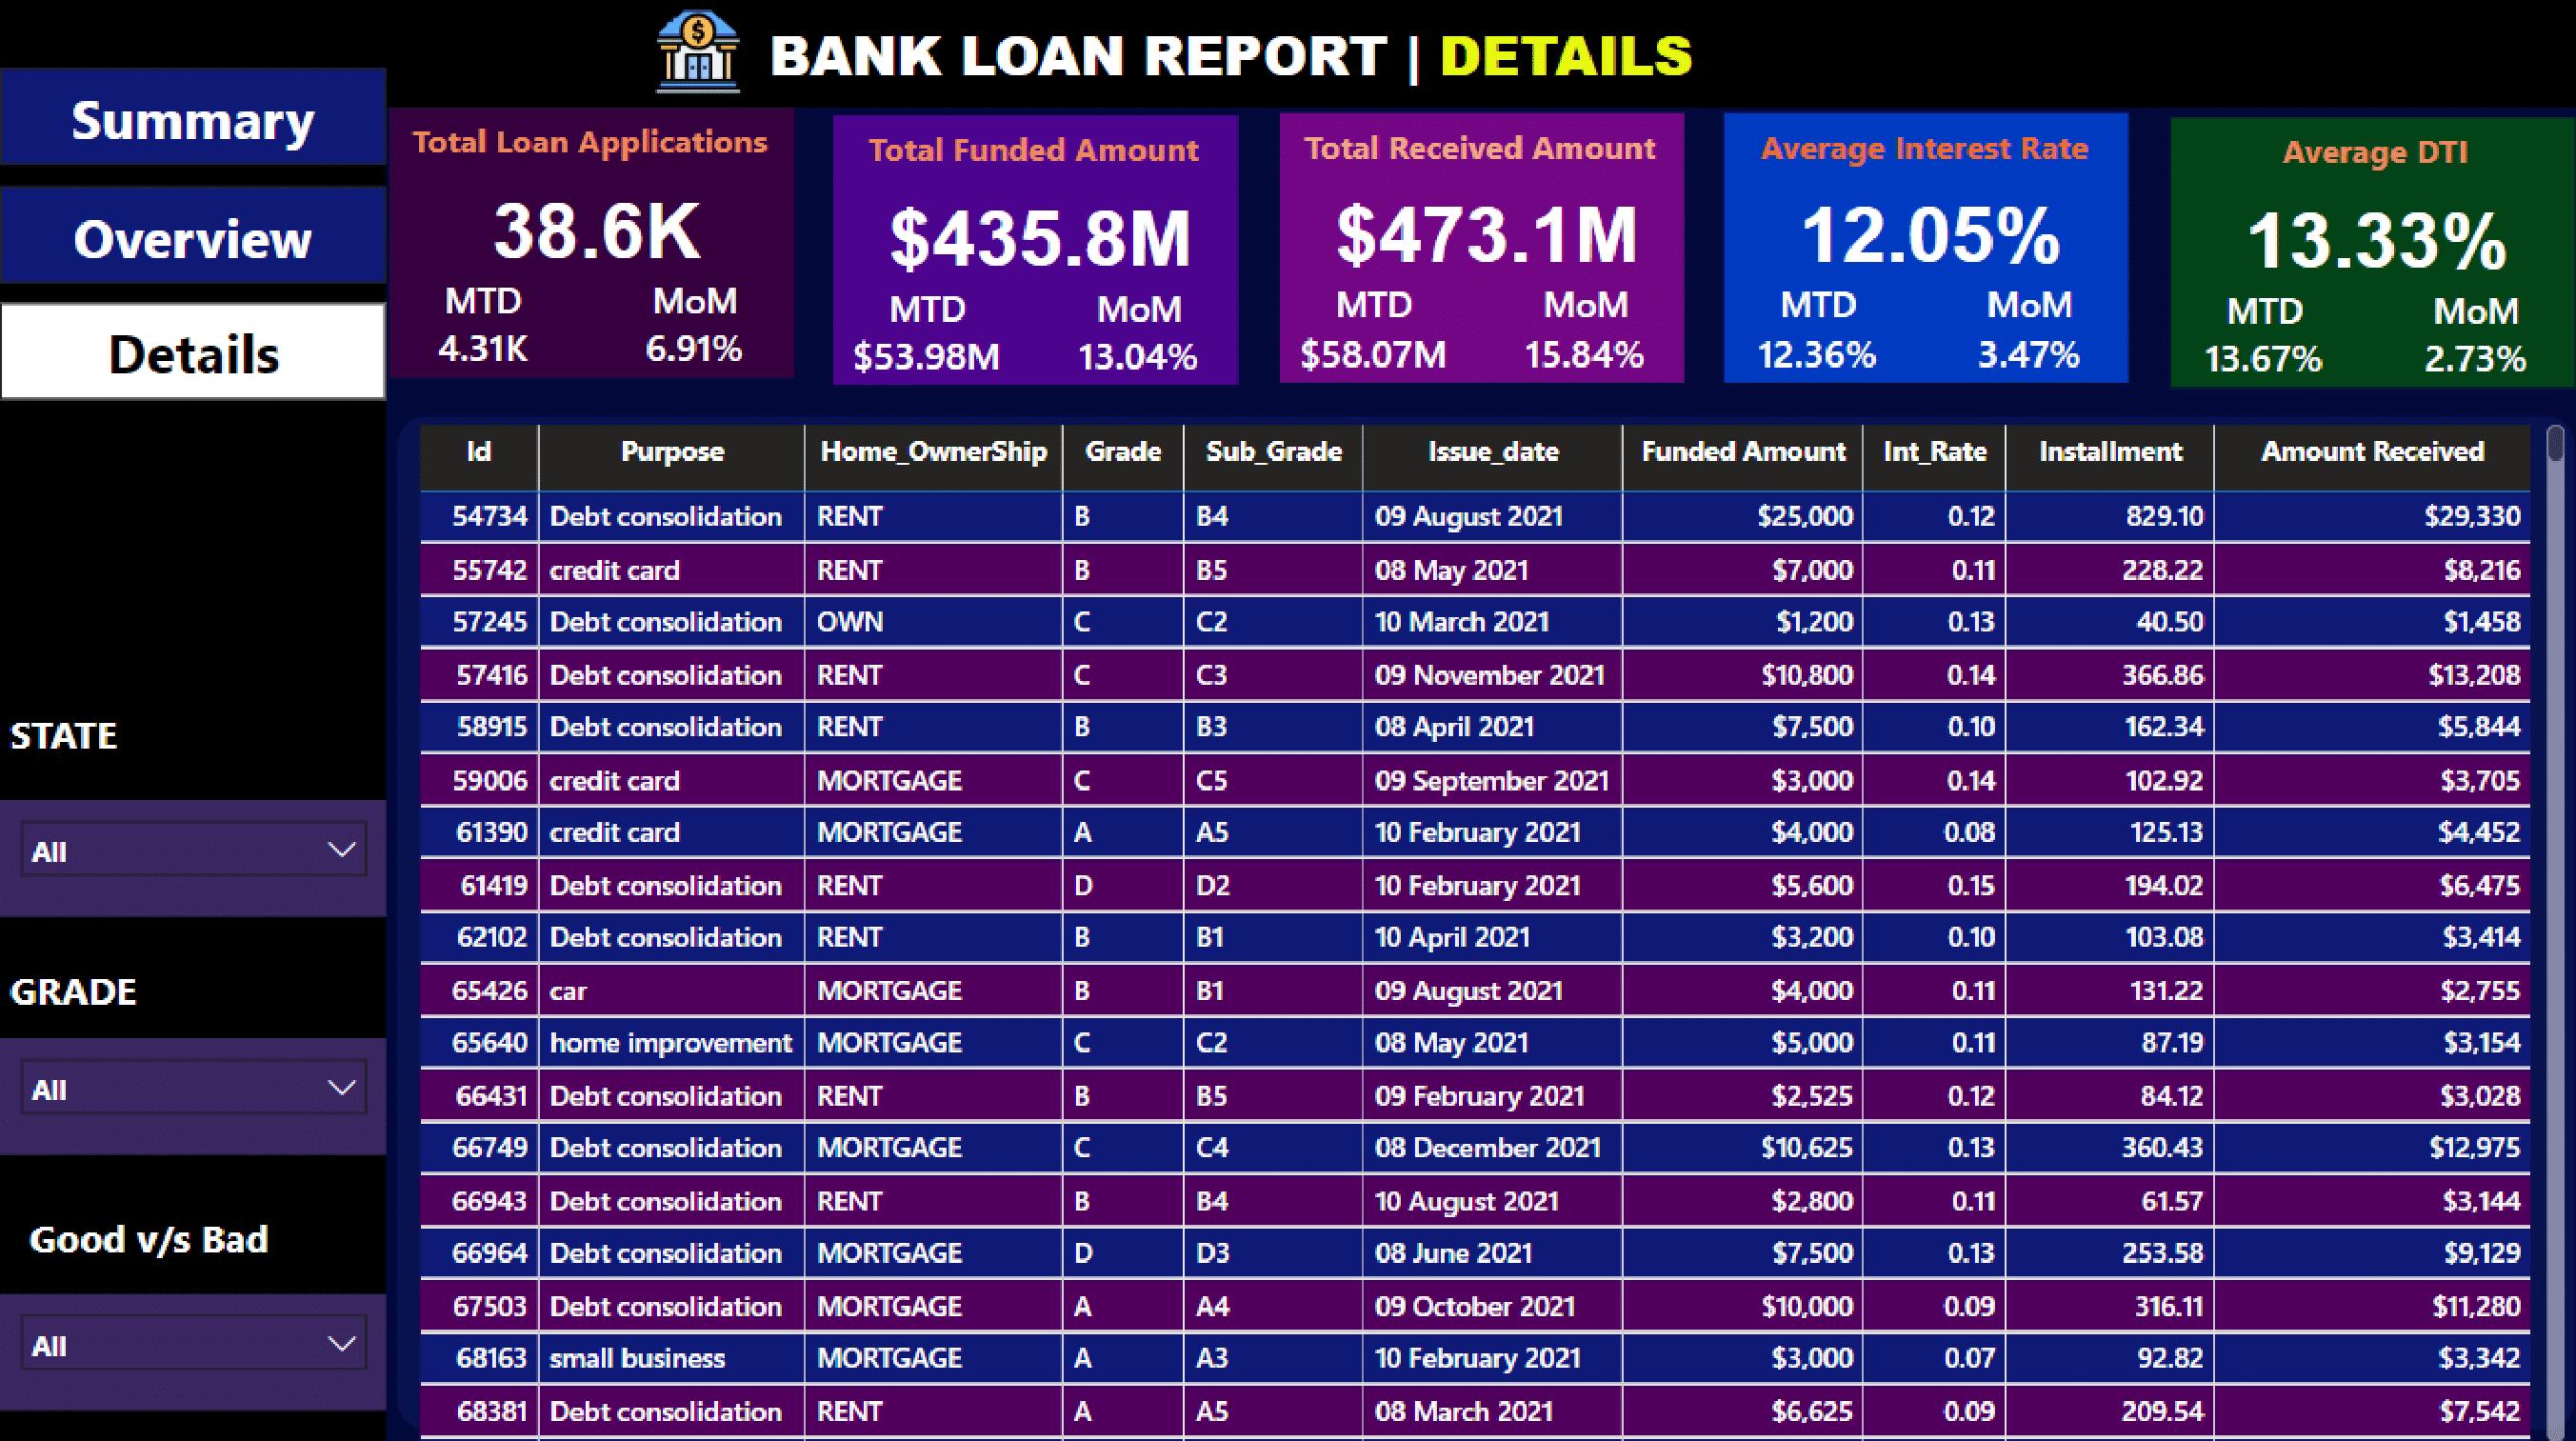

Layout of this report page (visuals, bound fields, positions):
{"tool":"powerbi","page":{"name":"Details","canvas":[1280,720],"ordinal":2},"visuals":[{"type":"shape","box":[192.2,55,200.2,133.8],"z":0,"group":"g1"},{"type":"shape","box":[0,55.2,191.4,665],"z":0},{"type":"shape","box":[632.8,57.7,200.2,133.8],"z":0,"group":"g4"},{"type":"shape","box":[853.1,57.7,200.2,133.8],"z":0,"group":"g3"},{"type":"shape","box":[412.4,59,200.2,133.8],"z":0,"group":"g2"},{"type":"shape","box":[1073.4,60.3,200.2,133.8],"z":0,"group":"g5"},{"type":"shape","box":[0,0,1280.3,55],"z":1000},{"type":"card","fields":{"Values":["Bank_Loan_Data.Total Loan Applications"]},"box":[198.4,89.3,193.1,49.7],"z":1000,"group":"g1"},{"type":"card","fields":{"Values":["Bank_Loan_Data.Total Amount Received"]},"box":[639,92,193.1,49.7],"z":1000,"group":"g4"},{"type":"card","fields":{"Values":["Bank_Loan_Data.Avg Interest Rate"]},"box":[859.3,92,193.1,49.7],"z":1000,"group":"g3"},{"type":"card","fields":{"Values":["Bank_Loan_Data.Total Funded Amount"]},"box":[418.6,93.3,193.1,49.7],"z":1000,"group":"g2"},{"type":"card","fields":{"Values":["Bank_Loan_Data.Avg DTI"]},"box":[1079.6,94.6,193.1,49.7],"z":1000,"group":"g5"},{"type":"textbox","box":[191.2,55,200.2,56.8],"z":2000,"group":"g1"},{"type":"textbox","box":[631.8,57.7,200.2,56.8],"z":2000,"group":"g4"},{"type":"textbox","box":[852.1,57.7,200.2,56.8],"z":2000,"group":"g3"},{"type":"textbox","box":[411.4,59,200.2,56.8],"z":2000,"group":"g2"},{"type":"textbox","box":[1072.4,60.3,200.2,56.8],"z":2000,"group":"g5"},{"type":"shape","box":[196.3,207.4,1077.3,501.8],"z":2000},{"type":"textbox","box":[375.5,4.9,550.9,50.3],"z":3000},{"type":"card","title":"MTD","fields":{"Values":["Bank_Loan_Data.MTD Loan Applications"]},"box":[191.2,139,95,49.7],"z":3000,"group":"g1"},{"type":"card","title":"MTD","fields":{"Values":["Bank_Loan_Data.MTD Total Amount Received"]},"box":[631.8,141.7,95,49.7],"z":3000,"group":"g4"},{"type":"card","title":"MTD","fields":{"Values":["Bank_Loan_Data.MTD Avg Interest Rate"]},"box":[852.1,141.7,95,49.7],"z":3000,"group":"g3"},{"type":"card","title":"MTD","fields":{"Values":["Bank_Loan_Data.MTD Funded Amount"]},"box":[411.4,143,95,49.7],"z":3000,"group":"g2"},{"type":"card","title":"MTD","fields":{"Values":["Bank_Loan_Data.MTD Avg DTI"]},"box":[1072.4,144.3,95,49.7],"z":3000,"group":"g5"},{"type":"group","id":"g1","title":"Group 1","box":[191.2,55,201.2,133.8],"z":4000},{"type":"card","title":"MoM","fields":{"Values":["Bank_Loan_Data.MoM Loan Application"]},"box":[295.4,139,96,49.7],"z":4000,"group":"g1"},{"type":"card","title":"MoM","fields":{"Values":["Bank_Loan_Data.MoM Total Amount Received"]},"box":[736,141.7,96,49.7],"z":4000,"group":"g4"},{"type":"card","title":"MoM","fields":{"Values":["Bank_Loan_Data.MoM Avg Interest Rate"]},"box":[956.3,141.7,96,49.7],"z":4000,"group":"g3"},{"type":"card","title":"MoM","fields":{"Values":["Bank_Loan_Data.MoM Total Funded Amount"]},"box":[515.6,143,96,49.7],"z":4000,"group":"g2"},{"type":"card","title":"MoM","fields":{"Values":["Bank_Loan_Data.MoM Avg DTI"]},"box":[1176.6,144.3,96,49.7],"z":4000,"group":"g5"},{"type":"group","id":"g2","title":"Group 1","box":[411.4,59,201.4,133.4],"z":5000},{"type":"group","id":"g3","title":"Group 1","box":[852.1,57.7,201.4,133.4],"z":6000},{"type":"group","id":"g4","title":"Group 1","box":[631.8,57.7,201.4,133.4],"z":7000},{"type":"group","id":"g5","title":"Group 1","box":[1072.4,60.3,201.4,133.4],"z":8000},{"type":"slicer","fields":{"Values":["Bank_Loan_Data.address_state"]},"box":[0,397.5,191.4,57.7],"z":9000},{"type":"textbox","box":[0,347.5,191.2,40],"z":10000},{"type":"slicer","fields":{"Values":["Bank_Loan_Data.grade"]},"box":[0,515,191.2,57.5],"z":11000},{"type":"textbox","box":[0,473.8,191.2,45],"z":12000},{"type":"slicer","fields":{"Values":["Bank_Loan_Data.Goood v/s Bad Loan"]},"box":[0,641.7,191.4,57.7],"z":13000},{"type":"textbox","box":[9.8,596.3,181.6,45.4],"z":14000},{"type":"tableEx","fields":{"Values":["Bank_Loan_Data.id","Bank_Loan_Data.purpose","Bank_Loan_Data.home_ownership","Bank_Loan_Data.grade","Bank_Loan_Data.sub_grade","Bank_Loan_Data.issue_date","Bank_Loan_Data.Total Funded Amount","Sum(Bank_Loan_Data.int_rate)","Sum(Bank_Loan_Data.installment)","Bank_Loan_Data.Total Amount Received"]},"box":[201.2,207.4,1072.4,512.9],"z":17000},{"type":"pageNavigator","box":[0,35.6,191.4,166.9],"z":17001},{"type":"image","box":[315.3,0,60.1,55.2],"z":17002}]}

Visuals, with their boxes in screenshot pixels (x1, y1, x2, y2), scaled from the page's 1280x720 canvas onto the 2576x1441 screenshot:
shape: 387,110,789,378
shape: 0,110,385,1440
shape: 1273,115,1676,383
shape: 1717,115,2120,383
shape: 830,118,1233,386
shape: 2160,121,2563,389
shape: 0,0,2575,110
card - Bank_Loan_Data.Total Loan Applications: 399,179,788,278
card - Bank_Loan_Data.Total Amount Received: 1286,184,1674,284
card - Bank_Loan_Data.Avg Interest Rate: 1729,184,2118,284
card - Bank_Loan_Data.Total Funded Amount: 843,187,1231,286
card - Bank_Loan_Data.Avg DTI: 2172,190,2562,289
textbox: 385,110,788,224
textbox: 1271,115,1674,230
textbox: 1715,115,2118,230
textbox: 828,118,1230,231
textbox: 2158,121,2561,234
shape: 395,415,2563,1419
textbox: 756,10,1865,110
"MTD" card: 385,278,576,378
"MTD" card: 1271,284,1463,383
"MTD" card: 1715,284,1906,383
"MTD" card: 828,286,1019,386
"MTD" card: 2158,289,2349,389
"Group 1" group: 385,110,789,378
"MoM" card: 594,278,788,378
"MoM" card: 1481,284,1674,383
"MoM" card: 1925,284,2118,383
"MoM" card: 1038,286,1230,386
"MoM" card: 2367,289,2561,389
"Group 1" group: 828,118,1233,385
"Group 1" group: 1715,115,2120,383
"Group 1" group: 1271,115,1677,383
"Group 1" group: 2158,121,2564,388
slicer - Bank_Loan_Data.address_state: 0,795,385,911
textbox: 0,695,385,775
slicer - Bank_Loan_Data.grade: 0,1031,385,1146
textbox: 0,949,385,1038
slicer - Bank_Loan_Data.Goood v/s Bad Loan: 0,1284,385,1400
textbox: 20,1193,385,1284
tableEx - Bank_Loan_Data.id x Bank_Loan_Data.purpose: 405,415,2563,1440
pageNavigator: 0,71,385,406
image: 634,0,755,110
